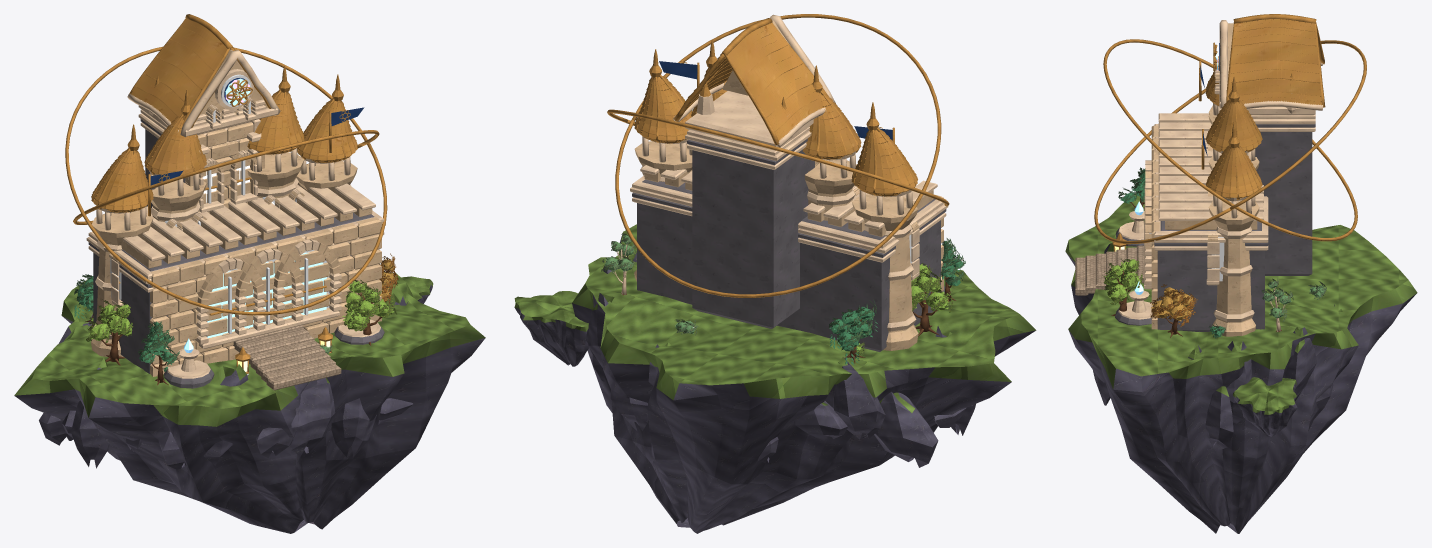
File: island-5.glb
3 views of the same model, side by side, from view 1: azimuth 30°, elevation 25°; view 2: azimuth 150°, elevation 25°; view 3: azimuth 270°, elevation 25° (orthographic). The views are drawn at different scales.
Parts seen in each view (by area): view 1: Stratified cliffs and meadow / cliff, Architecture / stone, Architecture / trim, Architecture / gold, Stratified cliffs and meadow / top, Architecture / joint, Architecture / paving, Canopy oak / leaves, Canopy oak / sprays, Architecture / iron, Architecture / azure_glass, Canopy oak / wood (+1 smaller); view 2: Stratified cliffs and meadow / cliff, Architecture / joint, Stratified cliffs and meadow / top, Architecture / gold, Architecture / trim, Architecture / stone, Canopy oak / leaves, Canopy oak / sprays, Architecture / cloth, Canopy oak / wood; view 3: Stratified cliffs and meadow / cliff, Stratified cliffs and meadow / top, Architecture / gold, Architecture / trim, Architecture / joint, Architecture / stone, Canopy oak / sprays, Canopy oak / leaves, Architecture / paving.
Part boxes in pixels (<box>): Stratified cliffs and meadow / cliff: <box>14,284,485,533</box>; Architecture / stone: <box>91,49,381,376</box>; Architecture / trim: <box>86,50,385,378</box>; Architecture / gold: <box>65,14,387,373</box>; Stratified cliffs and meadow / top: <box>14,272,485,426</box>; Architecture / joint: <box>88,119,384,388</box>; Architecture / paving: <box>233,325,341,390</box>; Canopy oak / leaves: <box>74,259,394,371</box>; Canopy oak / sprays: <box>74,253,398,371</box>; Architecture / iron: <box>118,101,308,375</box>; Architecture / azure_glass: <box>207,78,326,338</box>; Canopy oak / wood: <box>80,270,394,385</box>; Stratified cliffs and meadow / cliff: <box>514,235,1035,533</box>; Architecture / joint: <box>632,138,946,351</box>; Stratified cliffs and meadow / top: <box>514,224,1035,412</box>; Architecture / gold: <box>607,14,949,297</box>; Architecture / trim: <box>605,14,948,331</box>; Architecture / stone: <box>634,20,943,350</box>; Canopy oak / leaves: <box>604,235,964,365</box>; Canopy oak / sprays: <box>601,233,965,356</box>; Architecture / cloth: <box>659,61,892,140</box>; Canopy oak / wood: <box>621,260,962,363</box>; Stratified cliffs and meadow / cliff: <box>1066,236,1416,533</box>; Stratified cliffs and meadow / top: <box>1065,193,1417,414</box>; Architecture / gold: <box>1094,14,1366,251</box>; Architecture / trim: <box>1118,20,1322,331</box>; Architecture / joint: <box>1115,124,1315,331</box>; Architecture / stone: <box>1145,23,1259,336</box>; Canopy oak / sprays: <box>1102,167,1326,338</box>; Canopy oak / leaves: <box>1104,168,1324,336</box>; Architecture / paving: <box>1075,245,1143,295</box>.
Bounding box in the file's own units: 7.07 × 7.66 × 5.08.
20 materials, 11 textured.
